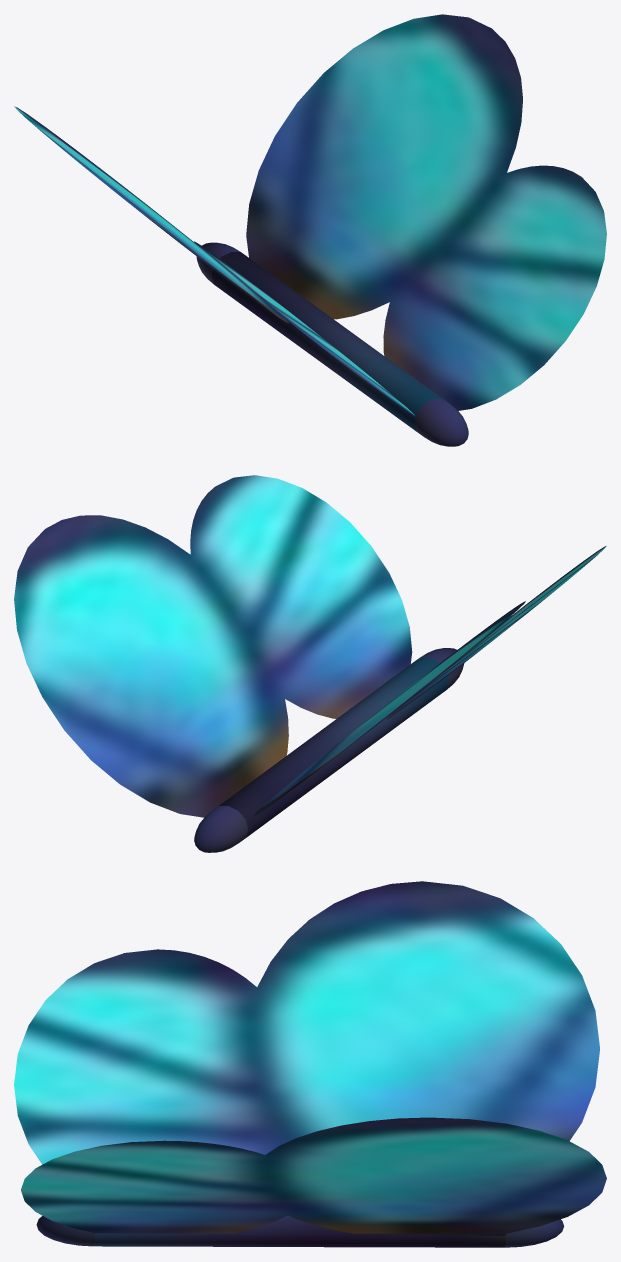
The model's file is mariposa.obj.
3 views of the same model, one above another, from view 1: azimuth 30°, elevation 25°; view 2: azimuth 150°, elevation 25°; view 3: azimuth 270°, elevation 25° (orthographic). The views are drawn at different scales.
Visible parts, largest first — view 1: Circle001, Capsule001, Circle002; view 2: Circle001, Capsule001, Circle002; view 3: Circle002, Circle001, Capsule001.
Boxes of the visible parts, <box> form: Circle001: <box>246,14,606,410</box>; Capsule001: <box>196,242,468,446</box>; Circle002: <box>14,106,415,416</box>; Circle001: <box>14,475,412,817</box>; Capsule001: <box>194,648,464,852</box>; Circle002: <box>253,546,606,816</box>; Circle002: <box>14,881,599,1164</box>; Circle001: <box>21,1117,606,1233</box>; Capsule001: <box>36,1215,564,1247</box>.
Size of the model in its own units: 28.81 by 15.22 by 32.47.
